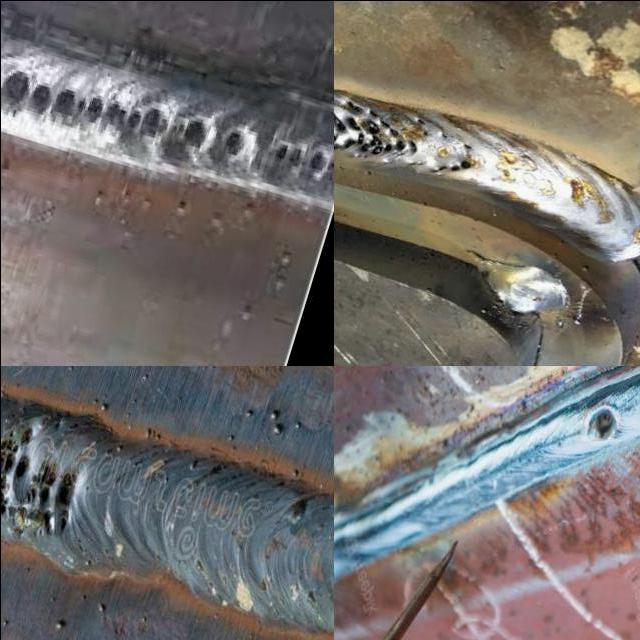defect: (0, 65, 176, 145), (333, 96, 422, 160), (23, 462, 79, 538), (0, 425, 39, 516), (265, 135, 333, 185), (177, 111, 216, 166), (220, 118, 255, 167), (584, 402, 622, 443), (429, 157, 477, 173), (434, 131, 453, 142), (460, 140, 476, 151), (408, 160, 424, 166), (416, 118, 427, 125), (421, 130, 430, 136)
